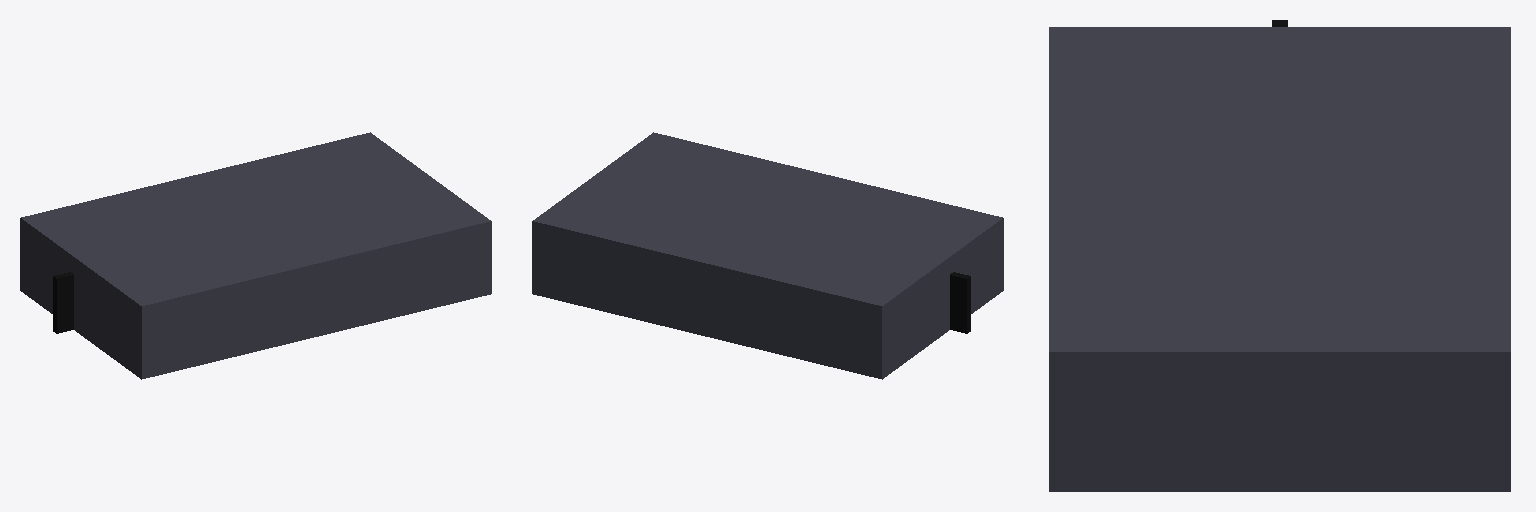
robot.urdf — loone_asv:
<robot name="loone_asv"> <!-- rudder behind the props -->

  <material name="hull_grey"><color rgba="0.3 0.3 0.35 1.0"/></material>
  <material name="prop_dark"><color rgba="0.1 0.1 0.1 1.0"/></material>

  <!-- ============================ Links ============================ -->
  <!-- base_link: the robot base frame nav2 plans for. Origin ~ boat center. -->
  <link name="base_link">
    <visual>
      <geometry><box size="1.0 0.6 0.2"/></geometry>
      <material name="hull_grey"/>
    </visual>
    <collision>
      <geometry><box size="1.0 0.6 0.2"/></geometry>
    </collision>
    <!-- Minimal inertial so URDF tools don't warn; not used without a physics sim. -->
    <inertial>
      <mass value="10.0"/>
      <inertia ixx="0.5" ixy="0.0" ixz="0.0" iyy="1.0" iyz="0.0" izz="1.0"/>
    </inertial>
  </link>

  <!-- Simple placeholder links for the two thrusters and the rudder. -->
  <link name="prop_l_link"><visual><geometry><cylinder radius="0.05" length="0.08"/></geometry><material name="prop_dark"/></visual></link>
  <link name="prop_r_link"><visual><geometry><cylinder radius="0.05" length="0.08"/></geometry><material name="prop_dark"/></visual></link>
  <link name="rudder_link"><visual><geometry><box size="0.02 0.05 0.15"/></geometry><material name="prop_dark"/></visual></link>

  <!-- ============================ Joints ============================ -->
  <!-- The propellers spin about their thrust axis. We model them as `continuous`
       so ros2_control can expose a command interface; the numeric command is a
       normalized [0,1] thrust fraction, NOT a real angle (see interface note below). -->
  <joint name="prop_l_joint" type="continuous">
    <parent link="base_link"/>
    <child link="prop_l_link"/>
    <origin xyz="-0.45 0.25 0" rpy="0 1.5708 0"/>
    <axis xyz="0 0 1"/>
  </joint>

  <joint name="prop_r_joint" type="continuous">
    <parent link="base_link"/>
    <child link="prop_r_link"/>
    <origin xyz="-0.45 -0.25 0" rpy="0 1.5708 0"/>
    <axis xyz="0 0 1"/>
  </joint>

  <!-- Rudder deflects left/right about the vertical axis. `revolute` with generous
       limits; the numeric command is a normalized [0,1] fraction (0.55 ~ straight). -->
  <joint name="rudder_joint" type="revolute">
    <parent link="base_link"/>
    <child link="rudder_link"/>
    <origin xyz="-0.55 0 0" rpy="0 0 1.5708"/>
    <axis xyz="0 0 0"/>
    <limit lower="-0.6" upper="0.6" effort="5.0" velocity="3.0"/>
  </joint>

  <!-- ============================ ros2_control ============================ -->
  <!--
    Stock topic_based_ros2_control hardware: it bridges the command/state interfaces
    below to plain ROS topics instead of a real driver, so we can keep the actual
    PCA9685 access in the Python busio_node node (no C++).

    Data flow:
      * TopicBasedSystem PUBLISHES the command-interface values as sensor_msgs/JointState
        on `joint_commands_topic`  -> busio_node subscribes and writes I2C.
      * TopicBasedSystem SUBSCRIBES `joint_states_topic` for the state-interface values
        <- busio_node publishes an (open-loop) echo.

    Interface choice: we use "position" for all three joints because a PCA9685 servo
    fraction is a position-like [0,1] command, and one ForwardCommandController can
    only drive ONE interface type. The value is a normalized fraction, not radians.
    If you prefer velocity semantics for the thrusters, change name="position" to
    name="velocity" here AND set JOINT_COMMAND_FIELD='velocity' in busio_node.py
    AND interface_name in ros2_control.yaml.
  -->
  <ros2_control name="asv" type="system">
    <hardware>
      <plugin>topic_based_ros2_control/TopicBasedSystem</plugin>
      <param name="joint_commands_topic">/asv/joint_commands</param>
      <param name="joint_states_topic">/asv/joint_states</param>
    </hardware>

    <joint name="prop_l_joint">
      <command_interface name="position"/>
      <state_interface name="position"/>
    </joint>
    <joint name="prop_r_joint">
      <command_interface name="position"/>
      <state_interface name="position"/>
    </joint>
    <joint name="rudder_joint">
      <command_interface name="position"/>
      <state_interface name="position"/>
    </joint>
  </ros2_control>

</robot>

--- What the picture shows (computed from the rendered views, not written in the file) ---
The picture shows the robot from 3 angles, left to right: view 1: azimuth 30°, elevation 25°; view 2: azimuth 150°, elevation 25°; view 3: azimuth 270°, elevation 25°; orthographic projection.
Model loone_asv with 4 links and 3 joints (1 revolute, 2 continuous), rooted at base_link, posed every joint at zero.
Visible links, largest first — view 1: base_link, rudder_link; view 2: base_link, rudder_link; view 3: base_link.
Boxes of the visible links, x1,y1,x2,y2 form: base_link: (20, 132, 491, 379); rudder_link: (53, 272, 73, 333); base_link: (532, 132, 1003, 379); rudder_link: (950, 272, 970, 333); base_link: (1049, 27, 1510, 491).
Size in the robot's own frame: 1.07 by 0.6 by 0.2 metres.
Geometry: primitives only (box / cylinder / sphere), no mesh files.
